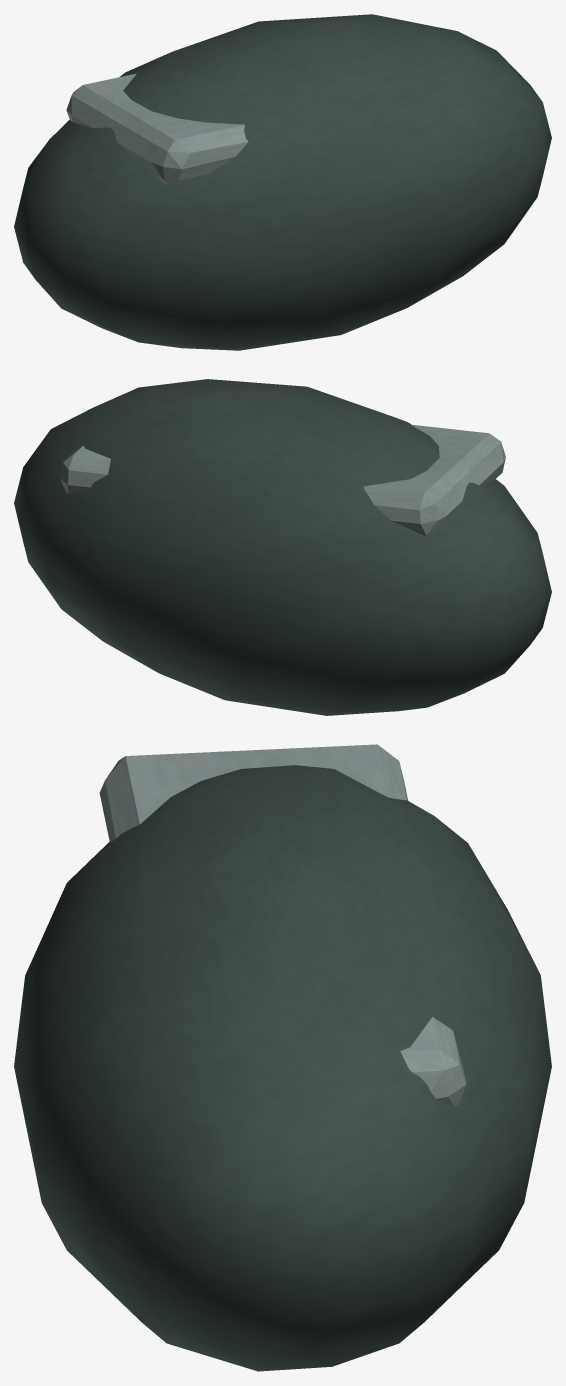
Rendered from SM_boundary_stone_LOD1.fbx.
The picture shows the model from 3 angles, top to bottom: view 1: azimuth 30°, elevation 25°; view 2: azimuth 150°, elevation 25°; view 3: azimuth 270°, elevation 25°; orthographic projection. The views are drawn at different scales.
Parts seen in each view (by area): view 1: SM_boundary_stone_LOD1; view 2: SM_boundary_stone_LOD1; view 3: SM_boundary_stone_LOD1.
Part boxes in pixels (box(x1,y1,x2,y2)): SM_boundary_stone_LOD1: box(14, 14, 551, 350); SM_boundary_stone_LOD1: box(14, 379, 551, 715); SM_boundary_stone_LOD1: box(14, 744, 551, 1371).
Size of the model in its own units: 1.34 by 0.76 by 0.72.
